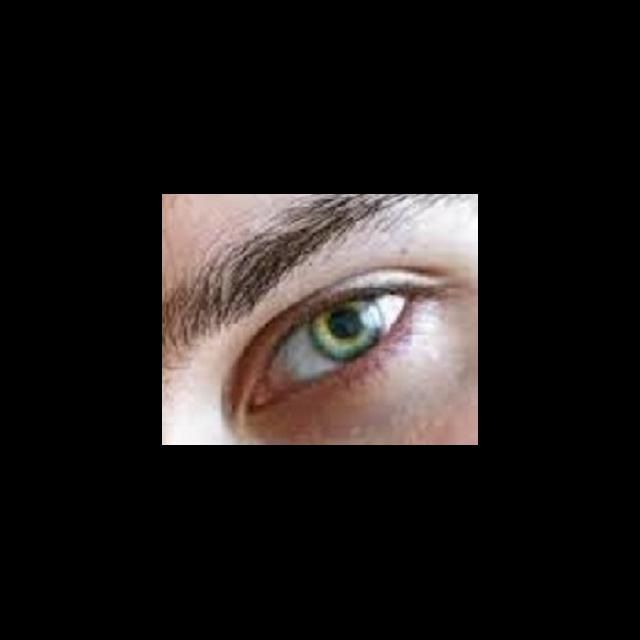eye: (266, 292, 407, 382)
iris: (310, 298, 385, 361)
